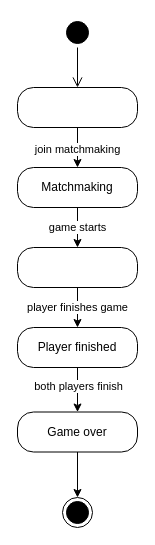
This 155x545 diagram has some shape labels left out. Each missing label, with the centre of its shape:
"Connected" belongs at [77,107].
"Playing" belongs at [77,267].
